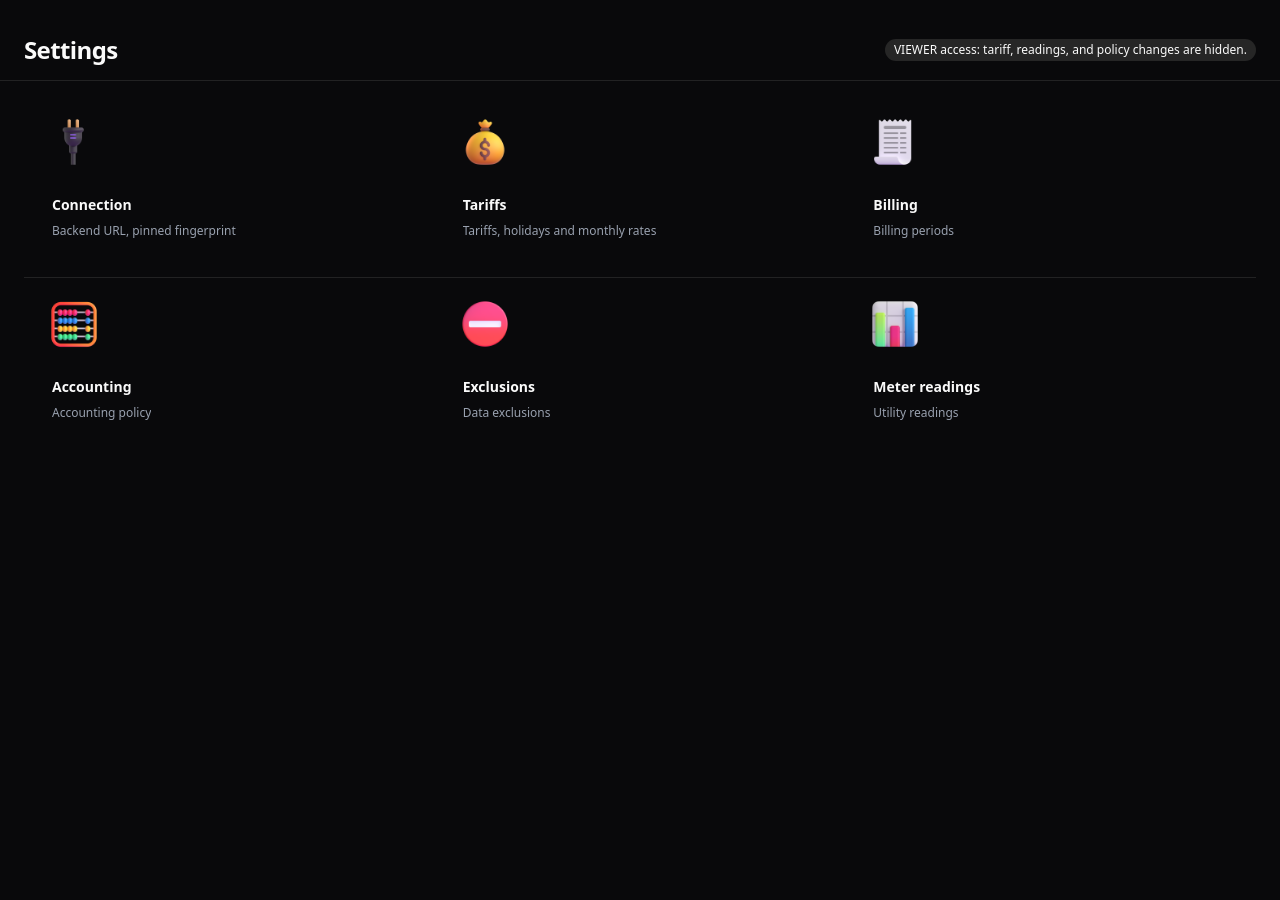
Test: Settings mutation visibility › hides {} mutations for VIEWER
This screenshot has width=1280, height=900.
Click the button "Meter readings Utility readings" at point(895, 324), box [845,278,1256,459]
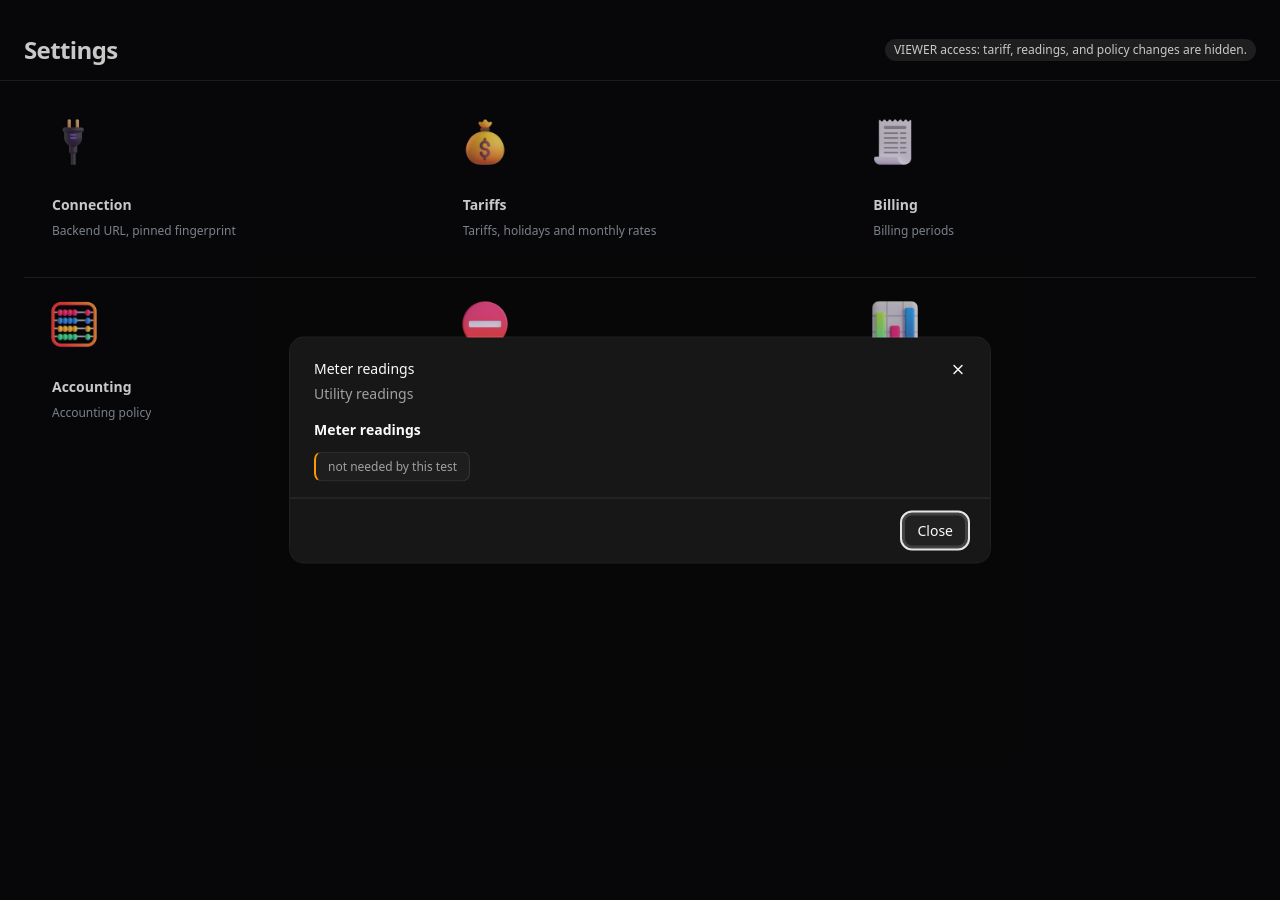
Check: the dialog is shown, box [290,338,990,562]
